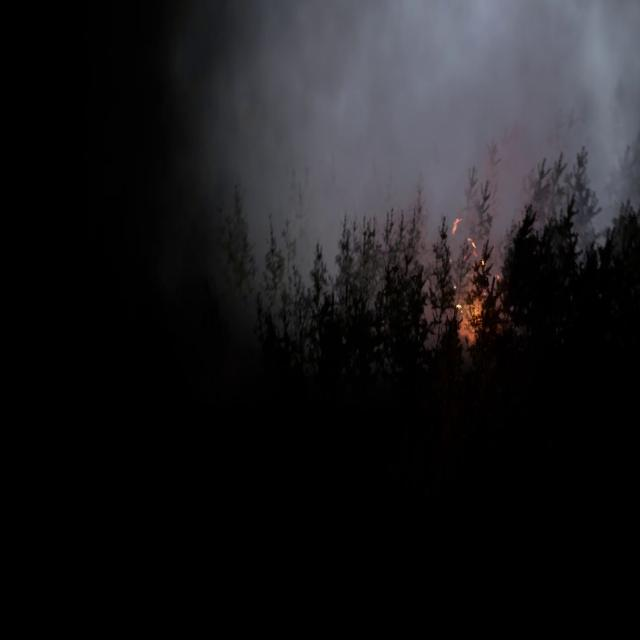fire: (448, 221, 510, 346)
smoke: (195, 0, 639, 328)
